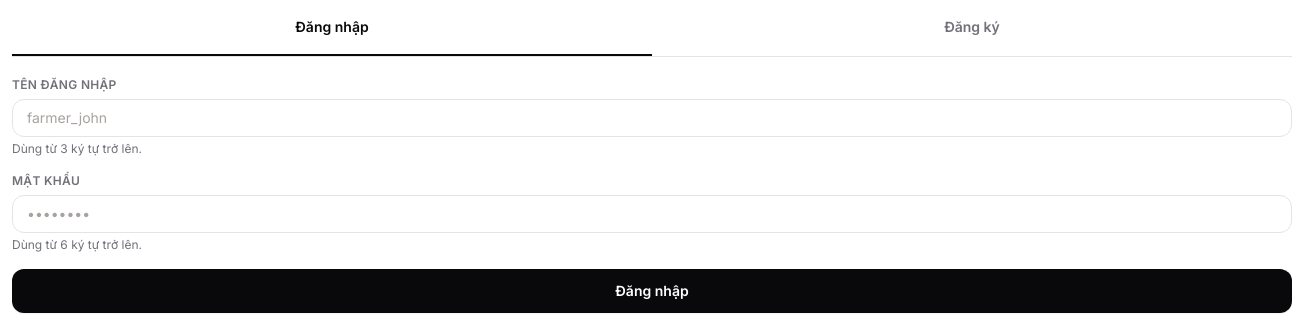
Test case: AuthForm › prevents duplicate submits and announces the loading action
Type "farmer" into the field labelled "Tên đăng nhập".
click(652, 118); type("farmer")  # box [12, 99, 1292, 137]
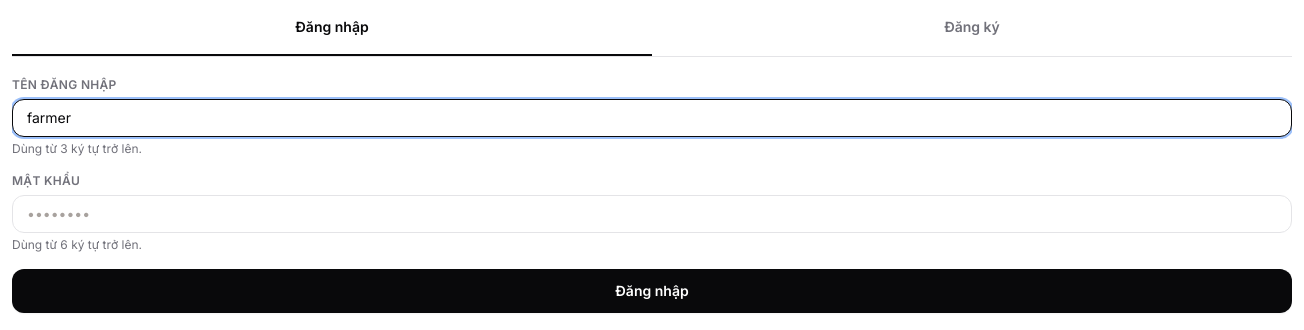
Type "secret1" into the password field labelled "Mật khẩu".
click(652, 214); type("secret1")  # box [12, 195, 1292, 233]
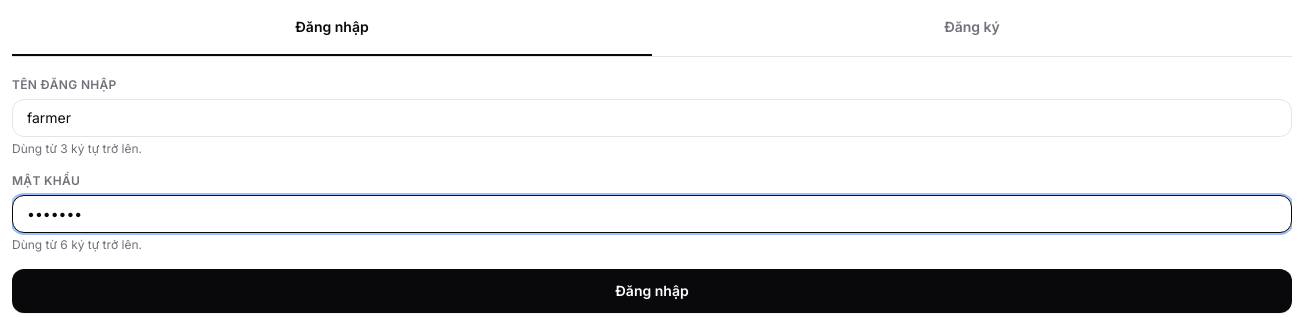
Click the button "Đăng nhập" below "Dùng từ 6 ký tự trở lên.".
click(652, 291)  # box [12, 269, 1292, 313]
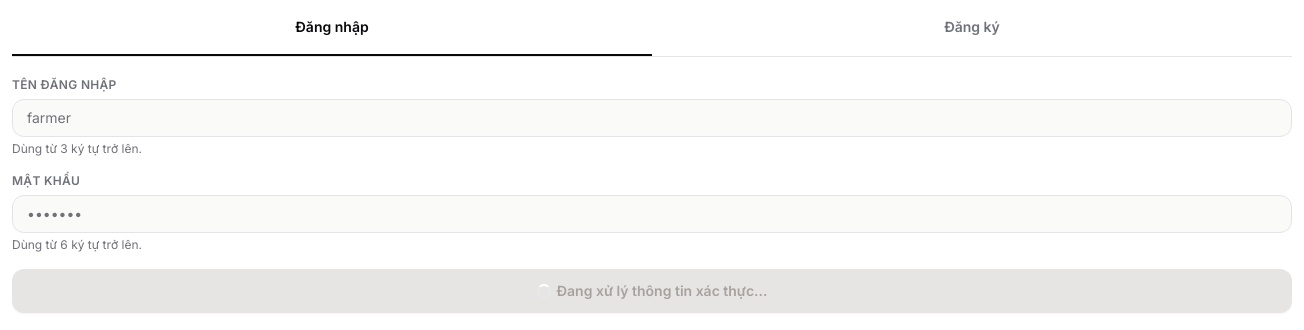
Check: the button named "Đăng nhập" is disabled
Check: the text "Đang xử lý thông tin xác thực…" is shown, box [556, 281, 767, 301]
Click the button named "Đăng nhập".
click(652, 291)  # box [12, 269, 1292, 313]
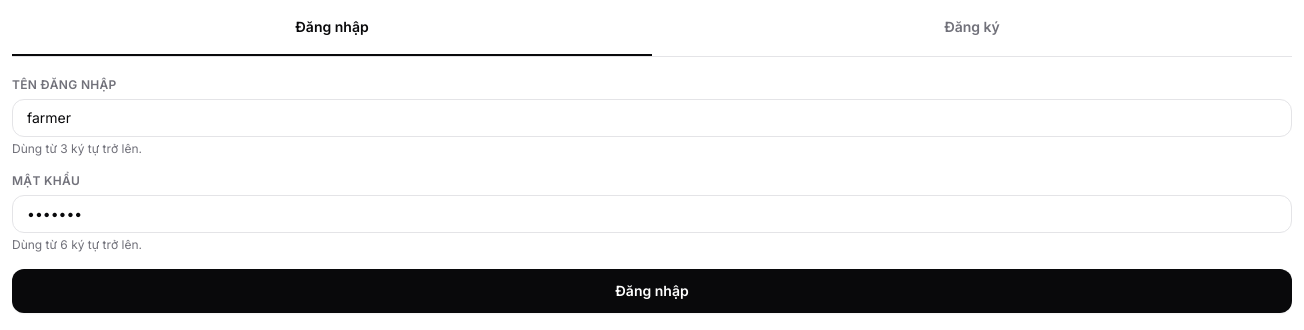
Check: the button "Đăng nhập" below "Dùng từ 6 ký tự trở lên." is enabled, box [12, 269, 1292, 313]
